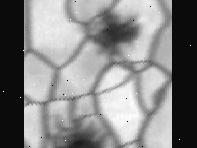good_void: (84, 0, 147, 62), (45, 99, 110, 148), (149, 81, 171, 112)
